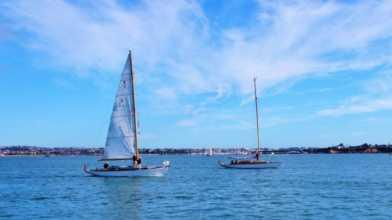fanchuan: (80, 43, 178, 177), (209, 64, 285, 172)
